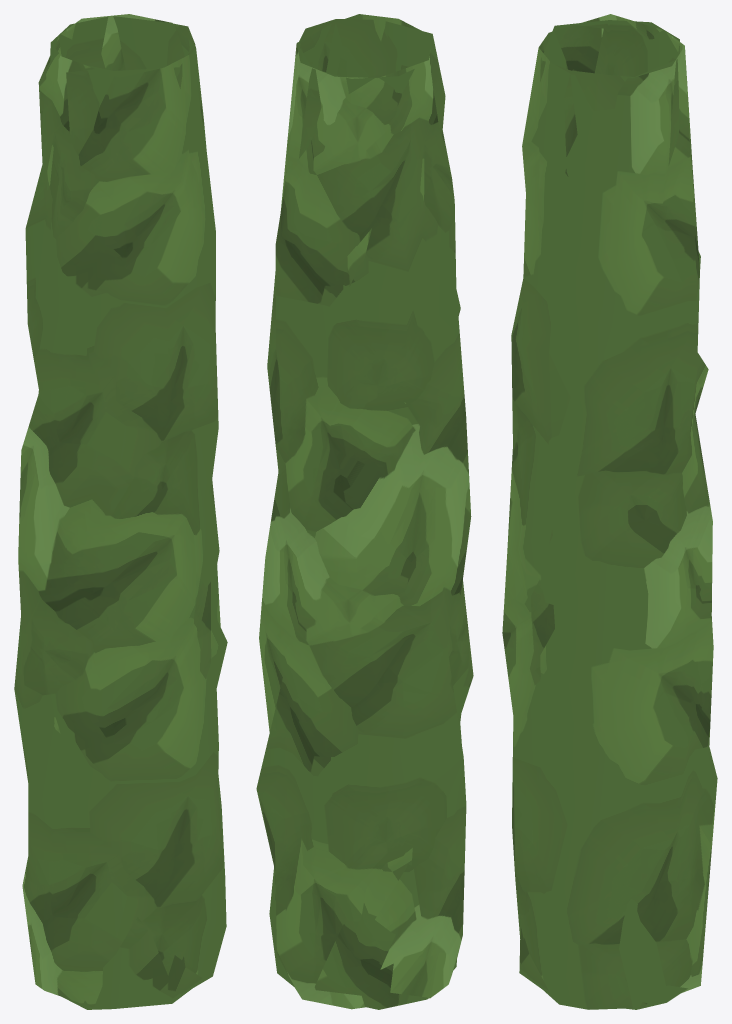
The model's file is SM_Env_Vines_06.fbx.
The picture shows the model from 3 angles, left to right: view 1: azimuth 30°, elevation 25°; view 2: azimuth 150°, elevation 25°; view 3: azimuth 270°, elevation 25°; orthographic projection.
Parts seen in each view (by area): view 1: SM_Env_Vines_06_LOD0; view 2: SM_Env_Vines_06_LOD0; view 3: SM_Env_Vines_06_LOD0.
Boxes of the visible parts, x1,y1,x2,y2 form: SM_Env_Vines_06_LOD0: (14, 14, 227, 1009); SM_Env_Vines_06_LOD0: (256, 14, 473, 1009); SM_Env_Vines_06_LOD0: (502, 14, 717, 1009).
Size of what is drawn, in the model's own units: 63.82 by 298 by 62.45.
